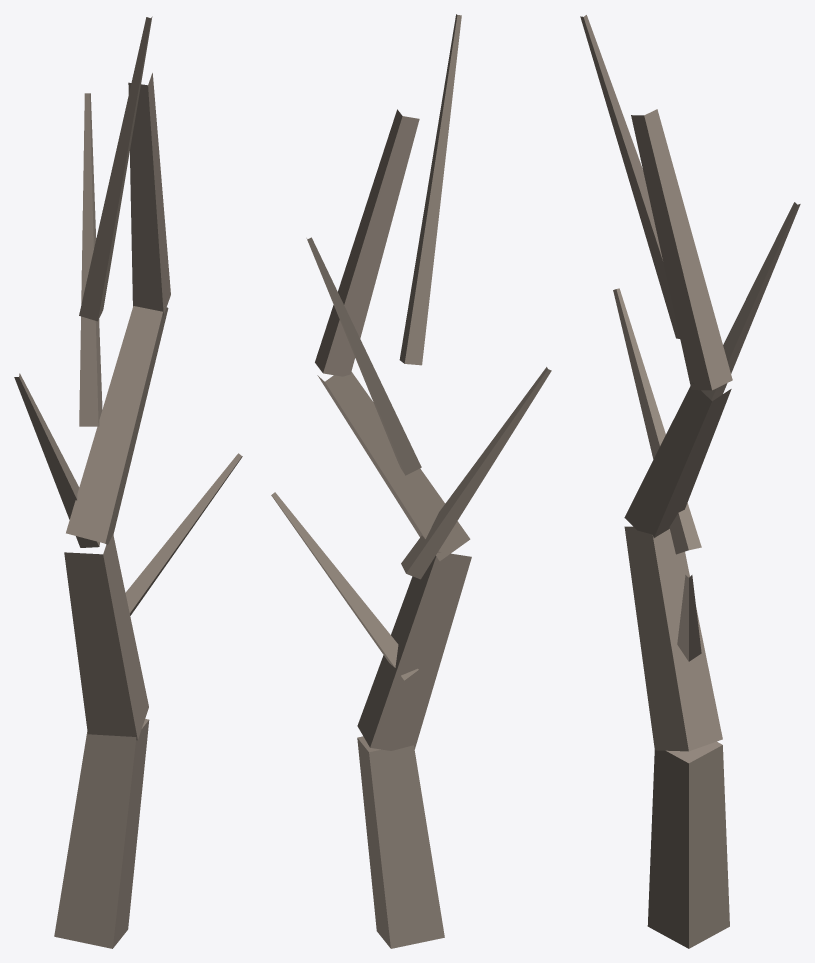
3 renders of one model, left to right at view 1: azimuth 30°, elevation 25°; view 2: azimuth 150°, elevation 25°; view 3: azimuth 270°, elevation 25°, orthographic. The views are drawn at different scales.
Parts seen in each view (by area): view 1: Body; view 2: Body; view 3: Body.
Boxes of the visible parts, x1,y1,x2,y2 form: Body: (14, 16, 242, 948); Body: (271, 14, 551, 948); Body: (580, 15, 800, 948).
Bounding box in the file's own units: 1.64 × 5.67 × 1.23.
